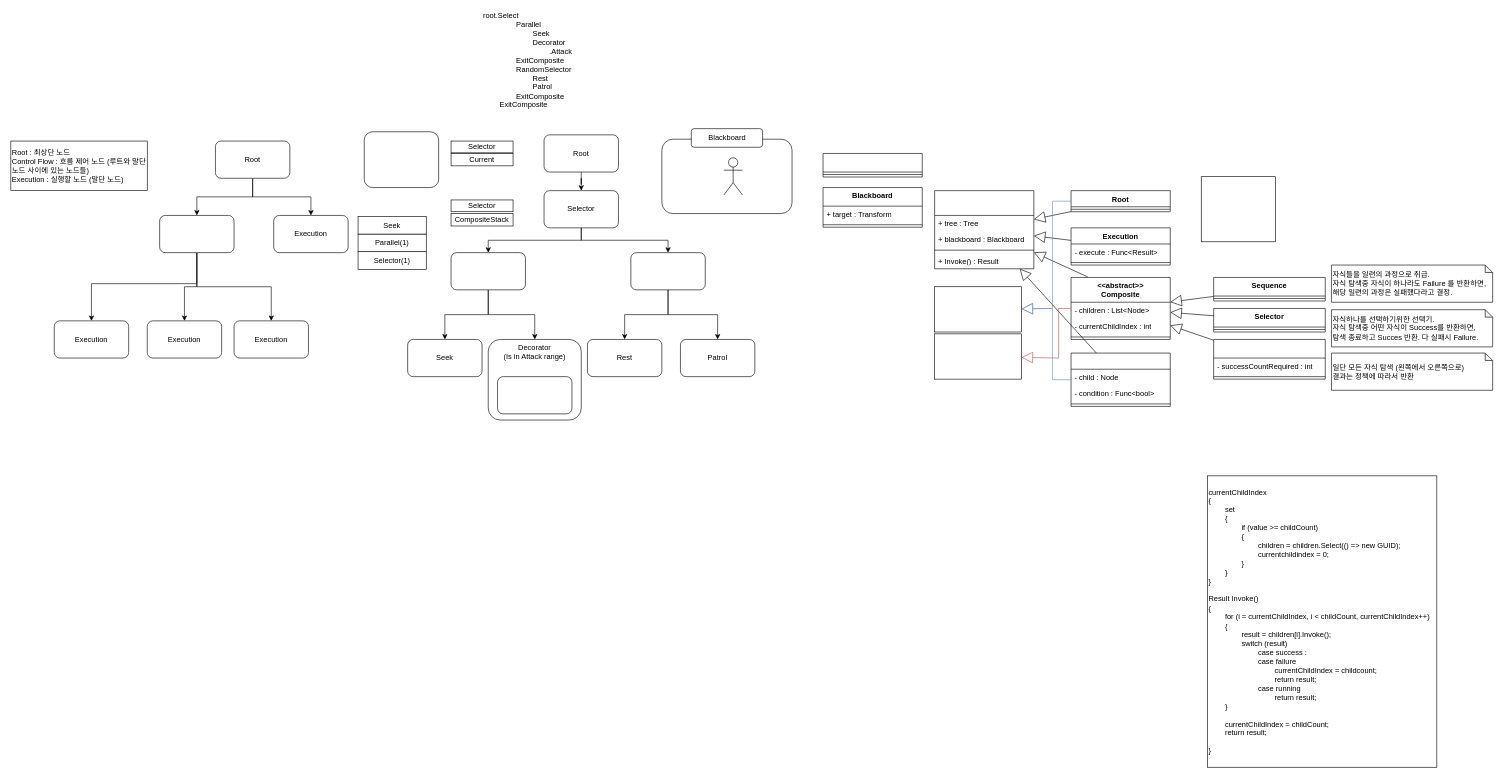
Image size: 1504x778. Some labels were removed from this diagram. The shapes that lost their labels are listed below. From the top down, each one's box as (x1, y1, x2, y2) in pixels, then its label:
(364, 131, 439, 188): Success, Failure, Running
(723, 157, 742, 195): Actor
(822, 153, 922, 177): Tree
(1201, 176, 1276, 242): «enum» Result Success, Failure Running
(159, 215, 234, 253): Control Flow
(934, 190, 1034, 269): <<abstract>> Node
(450, 252, 525, 290): Parallel (SuccessPolicy : RequiredOne)
(630, 252, 705, 290): Random Selector
(934, 286, 1021, 332): «interface» IParentOfChild child : Node
(934, 333, 1021, 379): «interface» IParentOfChildren children : List<Node>
(1213, 339, 1325, 379): Parallel
(497, 376, 572, 414): Attack
(1070, 352, 1170, 406): Decorator
